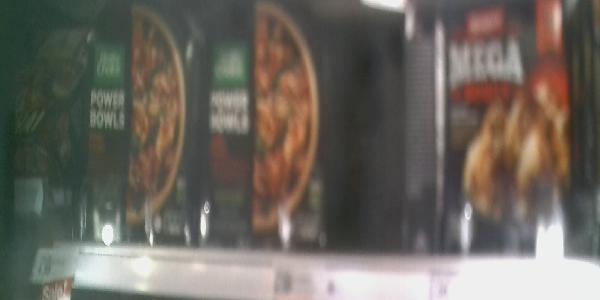pizza1: (407, 1, 569, 220), (56, 1, 194, 245), (199, 1, 332, 251)
